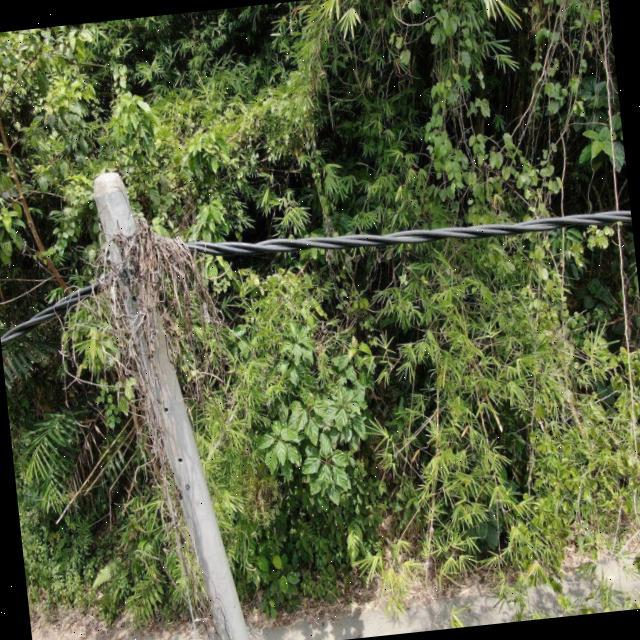critical vegetation: (26, 199, 254, 622)
